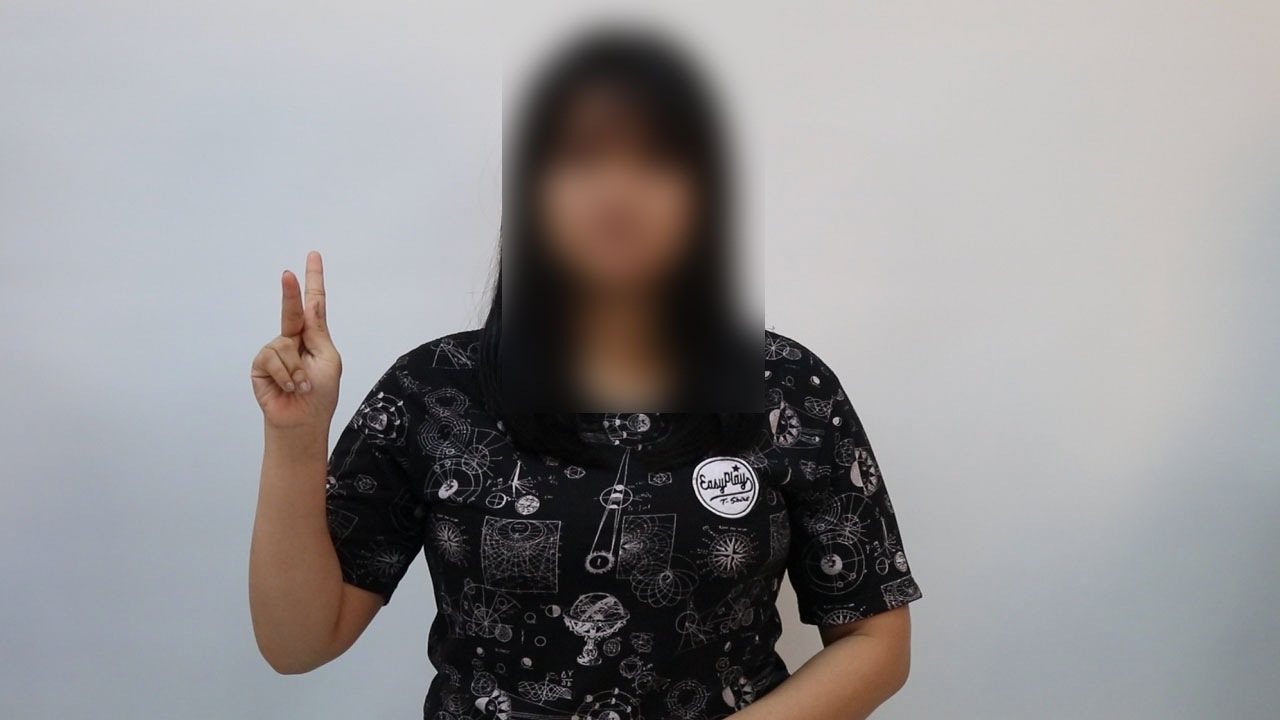ko: (199, 231, 388, 442)
